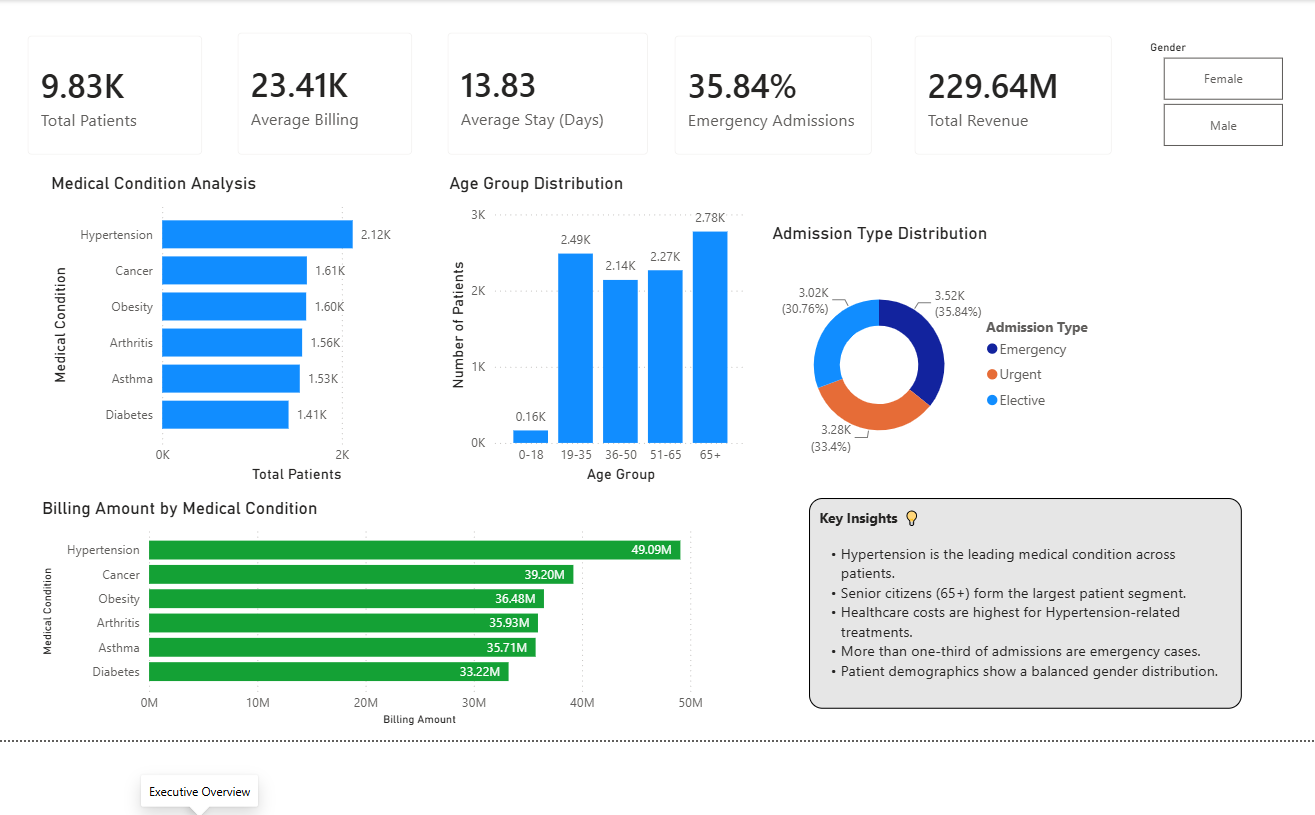

What the dashboard file says about the page in this screenshot:
{"tool":"powerbi","page":{"name":"Executive Overview","canvas":[1280,720],"ordinal":0},"visuals":[{"type":"cardVisual","fields":{"Data":["Healthcare_Data_v1.Total Patients"]},"box":[10.3,17.5,204.4,150.7],"z":0},{"type":"cardVisual","fields":{"Data":["Healthcare_Data_v1.Total Revenue"]},"box":[873.3,17.5,226.1,150.7],"z":1000},{"type":"cardVisual","fields":{"Data":["Healthcare_Data_v1.Average Duration of Stay"]},"box":[419.1,14.5,229.2,153.8],"z":2000},{"type":"cardVisual","fields":{"Data":["Healthcare_Data_v1.Average Billing"]},"box":[214.7,14.5,204.4,153.8],"z":3000},{"type":"barChart","title":"Medical Condition Analysis","fields":{"Category":["Healthcare_Data_v1.Medical Condition"],"Y":["Healthcare_Data_v1.Total Patients"]},"box":[45.4,168.3,387.1,305.5],"z":4000},{"type":"columnChart","title":"Age Group Distribution","fields":{"Category":["Healthcare_Data_v1.Age Group"],"Y":["CountNonNull(Healthcare_Data_v1.Age Group)"]},"box":[432.5,168.3,299.4,305.5],"z":5000},{"type":"barChart","title":"Billing Amount  by Medical Condition","fields":{"Category":["Healthcare_Data_v1.Medical Condition"],"Y":["Sum(Healthcare_Data_v1. Billing Amount )"]},"box":[37.2,484.1,652.4,226.1],"z":6000},{"type":"cardVisual","fields":{"Data":["Healthcare_Data_v1.Emergency Admissions"]},"box":[640,17.5,226.1,150.7],"z":7000},{"type":"slicer","fields":{"Values":["Healthcare_Data_v1.Gender"]},"box":[1106.6,35.1,166.2,113.5],"z":8000},{"type":"textbox","box":[787.6,484.1,421.2,205.4],"z":9000},{"type":"donutChart","title":"Admission Type Distribution","fields":{"Category":["Healthcare_Data_v1.Admission Type"],"Y":["CountNonNull(Healthcare_Data_v1.Admission Type)"]},"box":[747.4,216.8,322.1,257],"z":10000}]}

Visuals, with their boxes on the page's 1280x720 design canvas (x1, y1, x2, y2). These are canvas units, not pixel positions in the 1315x815 screenshot, which may show the page scaled, cropped or inside an application window:
cardVisual - Healthcare_Data_v1.Total Patients: [x1=10, y1=18, x2=215, y2=168]
cardVisual - Healthcare_Data_v1.Total Revenue: [x1=873, y1=18, x2=1099, y2=168]
cardVisual - Healthcare_Data_v1.Average Duration of Stay: [x1=419, y1=14, x2=648, y2=168]
cardVisual - Healthcare_Data_v1.Average Billing: [x1=215, y1=14, x2=419, y2=168]
"Medical Condition Analysis" barChart: [x1=45, y1=168, x2=432, y2=474]
"Age Group Distribution" columnChart: [x1=432, y1=168, x2=732, y2=474]
"Billing Amount  by Medical Condition" barChart: [x1=37, y1=484, x2=690, y2=710]
cardVisual - Healthcare_Data_v1.Emergency Admissions: [x1=640, y1=18, x2=866, y2=168]
slicer - Healthcare_Data_v1.Gender: [x1=1107, y1=35, x2=1273, y2=149]
textbox: [x1=788, y1=484, x2=1209, y2=690]
"Admission Type Distribution" donutChart: [x1=747, y1=217, x2=1070, y2=474]
